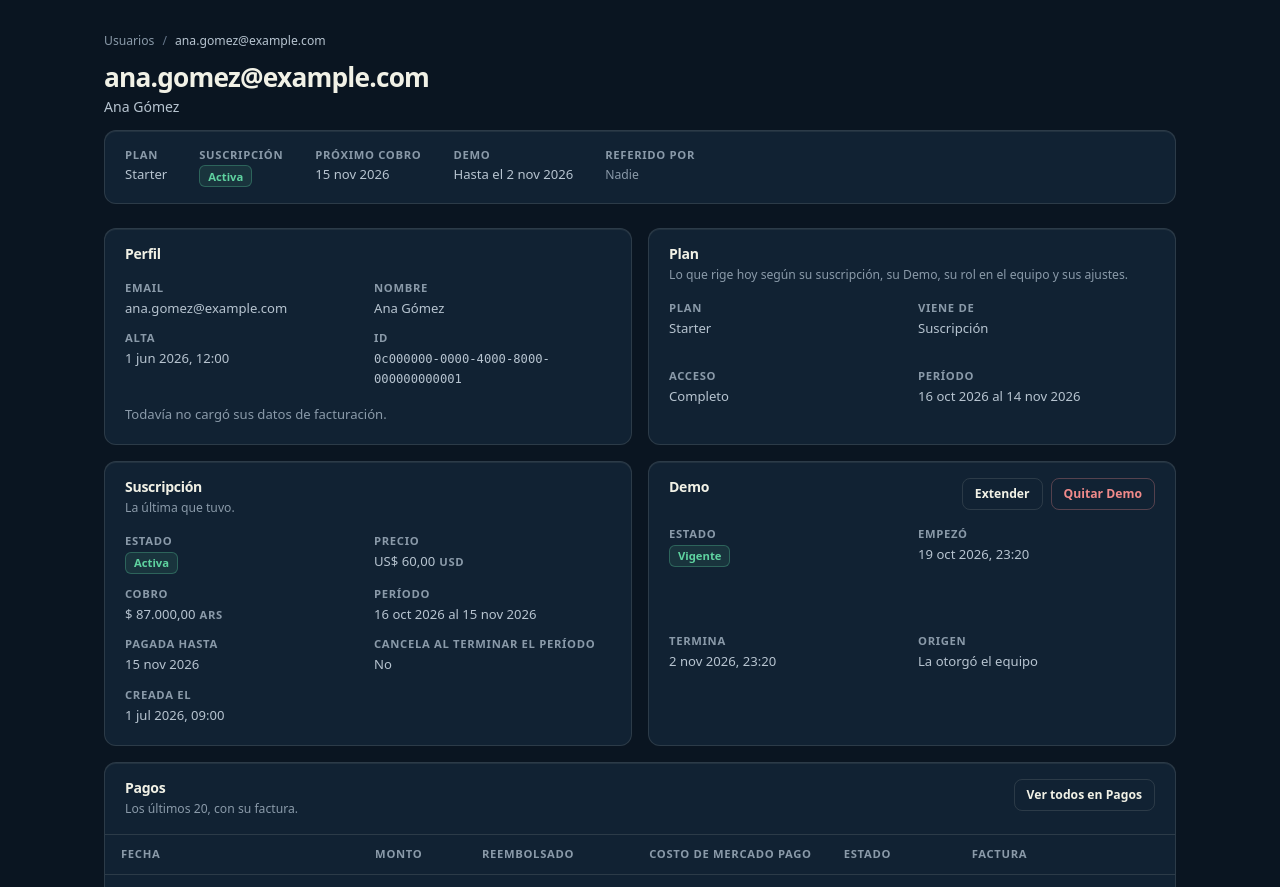
Test: CustomerDetailScreen › takes away a running Demo and says the access ends now
Click the button "Quitar Demo" at (1103, 494), box [1051, 478, 1155, 510]
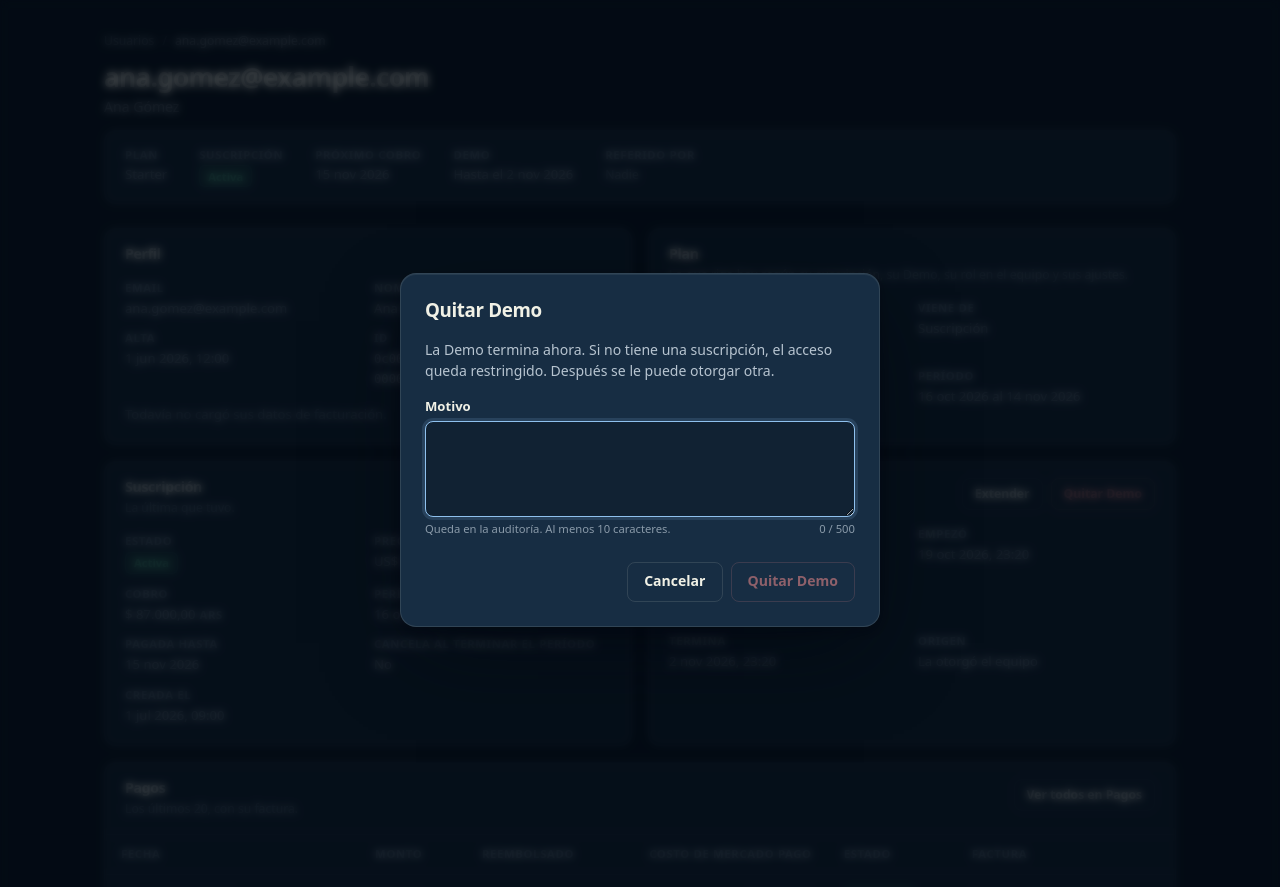
Check: the text "La Demo termina ahora" is shown, box [425, 340, 832, 380]
Type "Lo pidió el cliente por mail" into the text box labelled "Motivo" at (640, 469), box [425, 421, 855, 517]
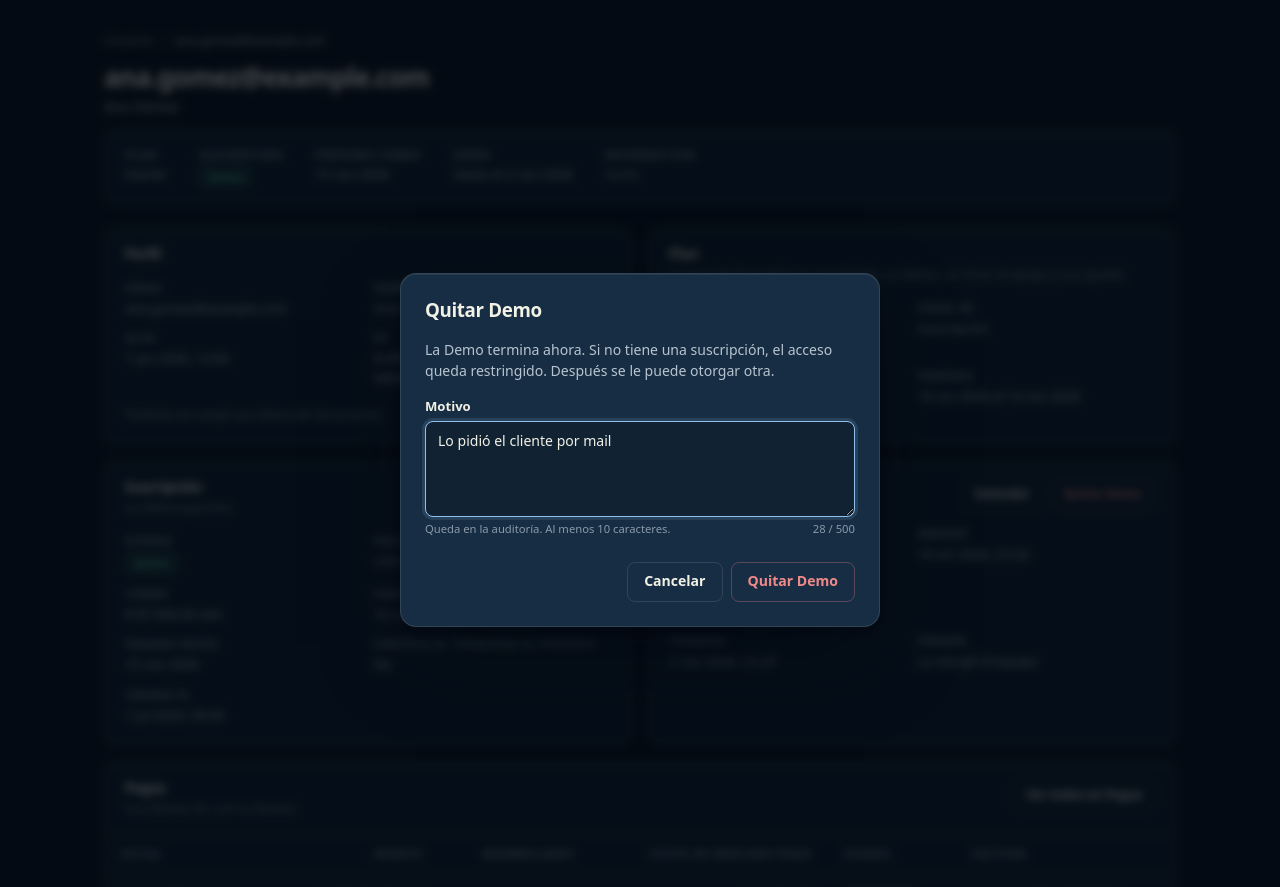
Click the button "Quitar Demo" at (793, 582), box [730, 562, 855, 602]
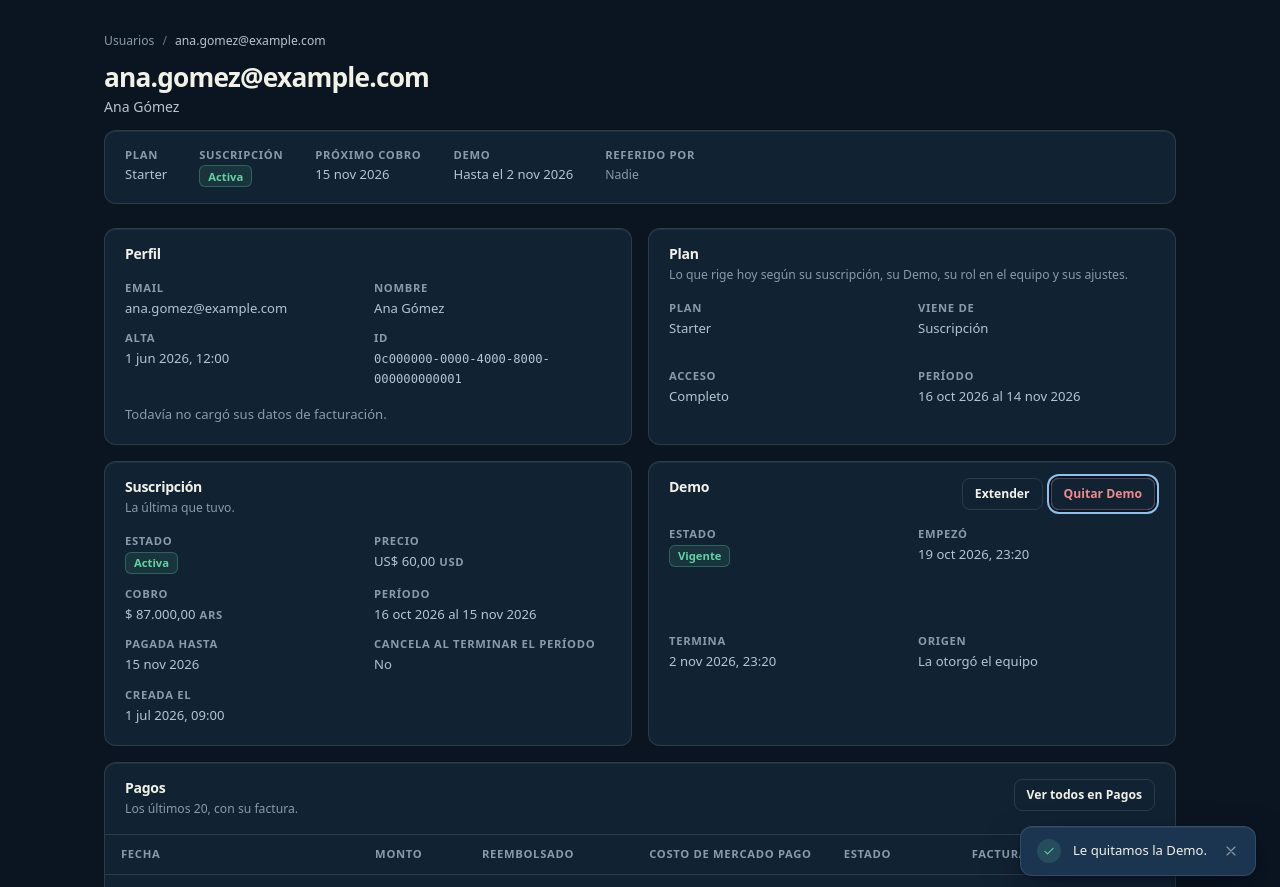
Check: the text "Le quitamos la Demo." is shown, box [1073, 841, 1207, 861]
